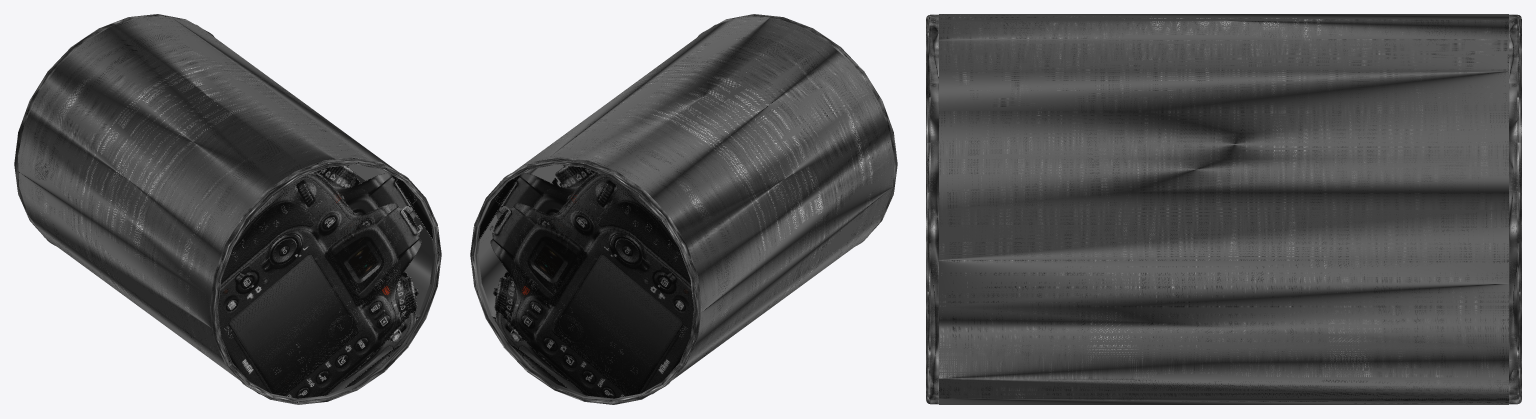
File: model_align.obj
The picture shows the model from 3 angles, left to right: view 1: azimuth 30°, elevation 25°; view 2: azimuth 150°, elevation 25°; view 3: azimuth 270°, elevation 25°; orthographic projection. The views are drawn at different scales.
Size of the model in its own units: 0.0744 by 0.0744 by 0.1134.
